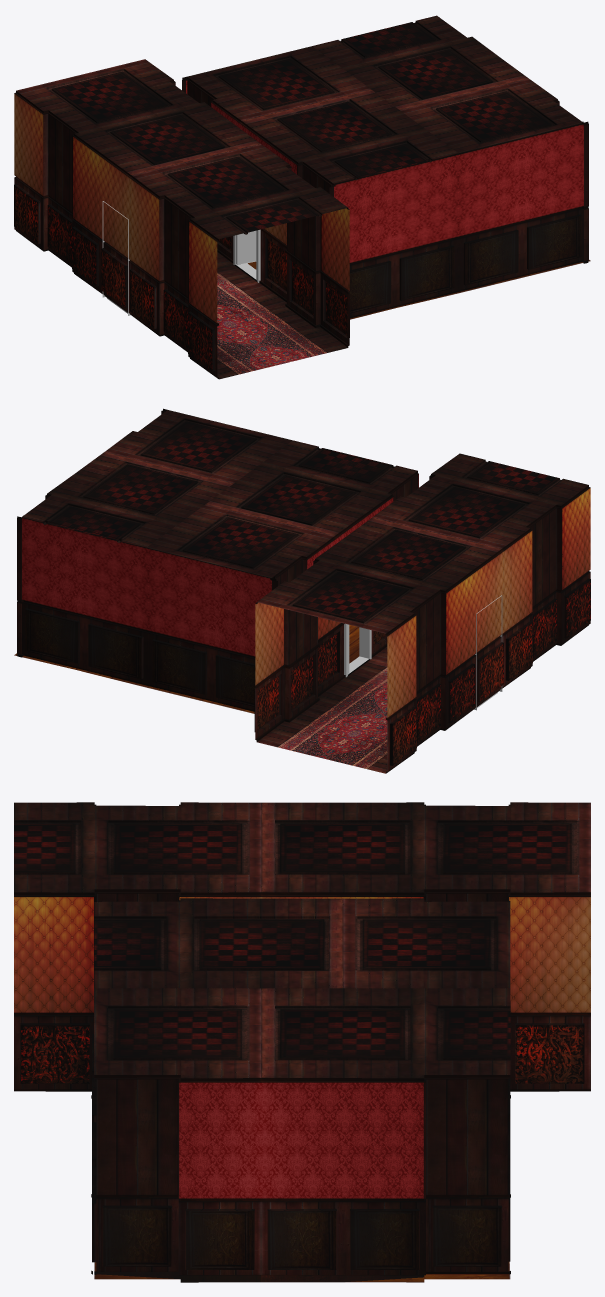
Rendered from HallRoom.FBX.
The picture shows the model from 3 angles, top to bottom: view 1: azimuth 30°, elevation 25°; view 2: azimuth 150°, elevation 25°; view 3: azimuth 270°, elevation 25°; orthographic projection. The views are drawn at different scales.
Visible parts, largest first — view 1: Room; view 2: Room; view 3: Room.
Boxes of the visible parts, x1,y1,x2,y2 form: Room: (14,15,590,379); Room: (14,408,590,773); Room: (14,802,590,1282).
Size of the model in its own units: 205 by 67.67 by 176.
